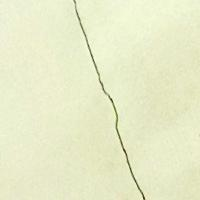crack: (53, 0, 150, 199)
